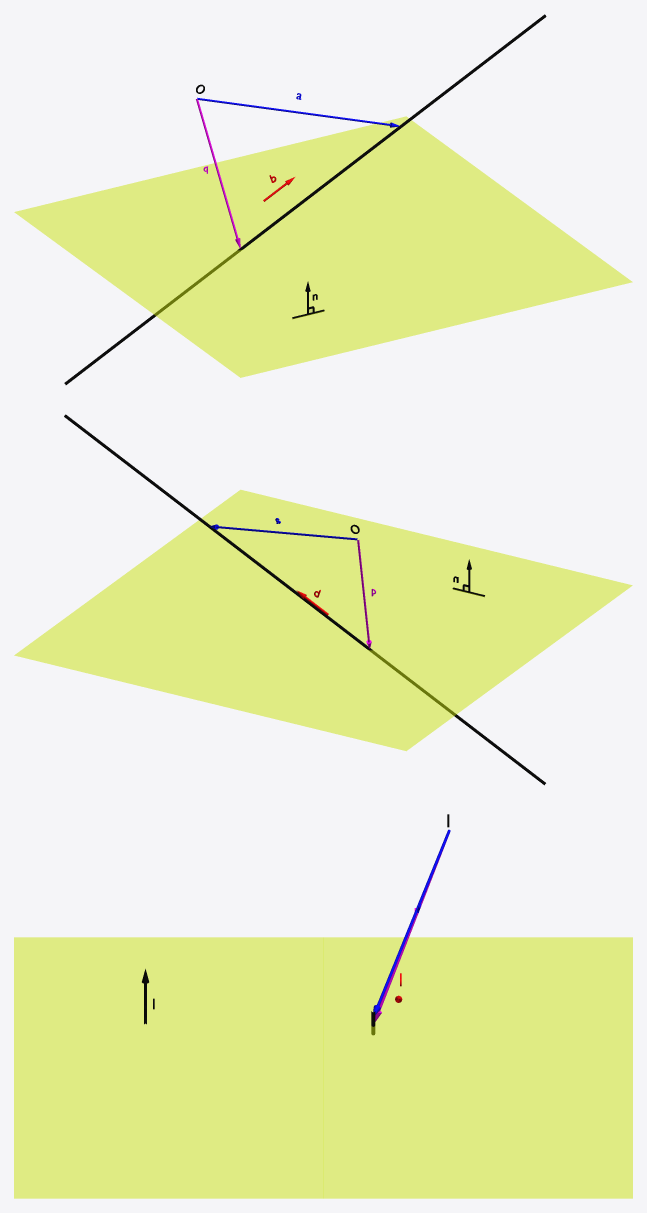
3 renders of one model, top to bottom at view 1: azimuth 30°, elevation 25°; view 2: azimuth 150°, elevation 25°; view 3: azimuth 270°, elevation 25°, orthographic. The views are drawn at different scales.
Visible parts, largest first — view 1: f, i, z_{1}; view 2: f, i; view 3: f, z_{1}.
Part boxes in pixels (x1,y1,x2,y2): f: (14, 116, 632, 377); i: (64, 14, 546, 384); z_{1}: (197, 97, 399, 127); f: (14, 490, 632, 750); i: (64, 414, 545, 785); f: (14, 937, 632, 1198); z_{1}: (373, 829, 450, 1014).
Size of the model in its own units: 0.3003 by 0.1512 by 0.2446.
